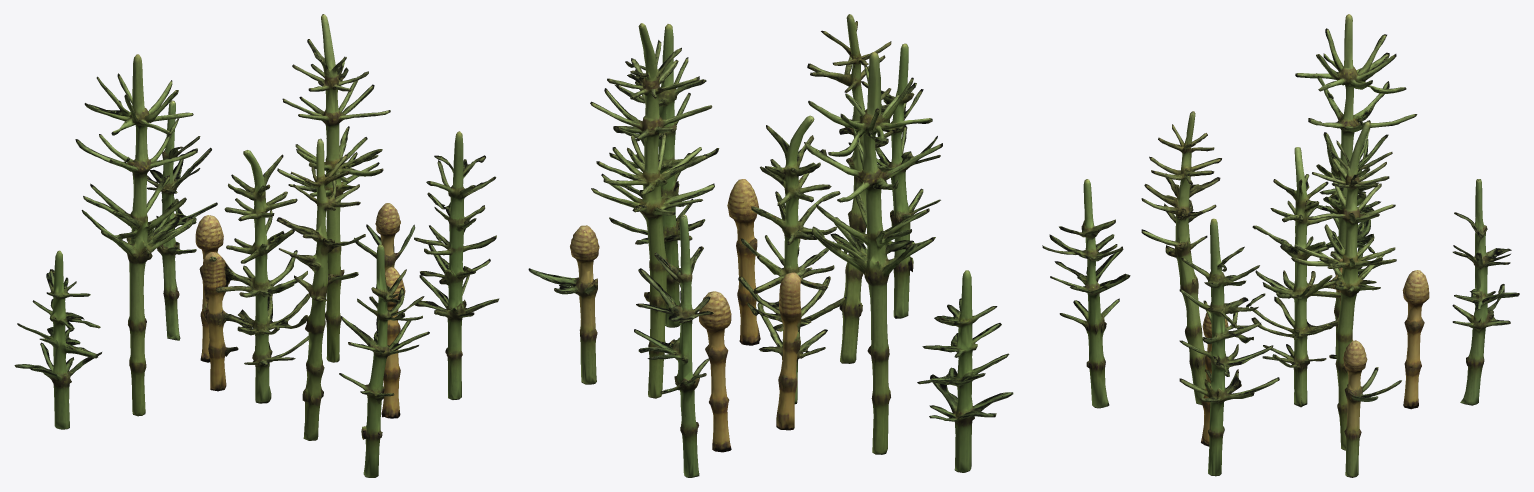
3 renders of one model, left to right at view 1: azimuth 30°, elevation 25°; view 2: azimuth 150°, elevation 25°; view 3: azimuth 270°, elevation 25°, orthographic. The views are drawn at different scales.
Parts seen in each view (by area): view 1: world; view 2: world; view 3: world.
Part boxes in pixels (bbox=[...]): world: bbox=[14, 14, 499, 477]; world: bbox=[528, 14, 1013, 477]; world: bbox=[1042, 14, 1519, 477].
Size of the model in its own units: 0.9371 by 0.7856 by 0.9832.
1 material, 1 textured.
